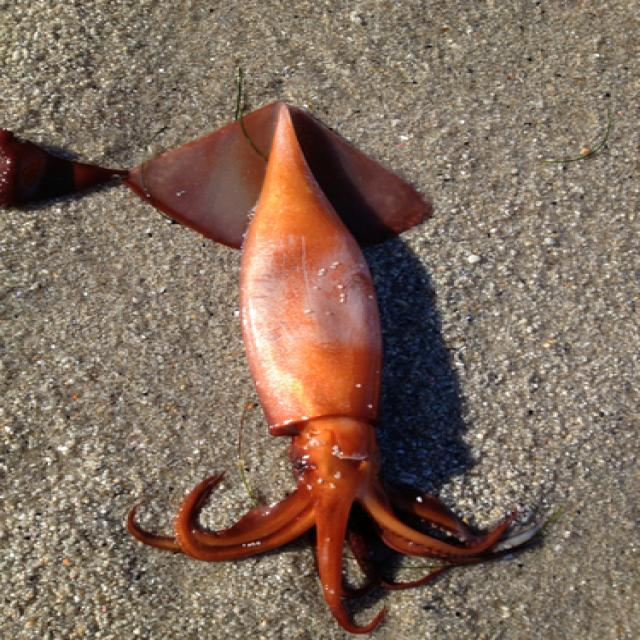SQUID: (96, 93, 572, 640)
